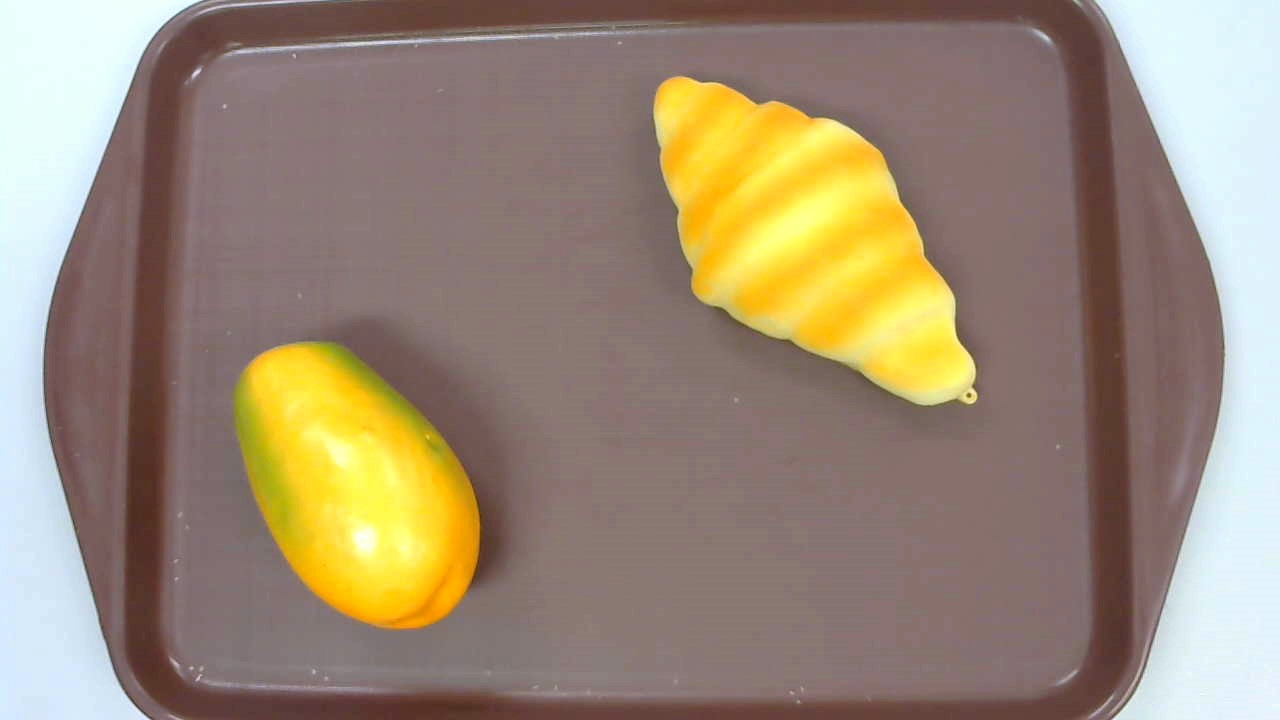croissant: (651, 76, 978, 408)
papya: (233, 339, 480, 631)
